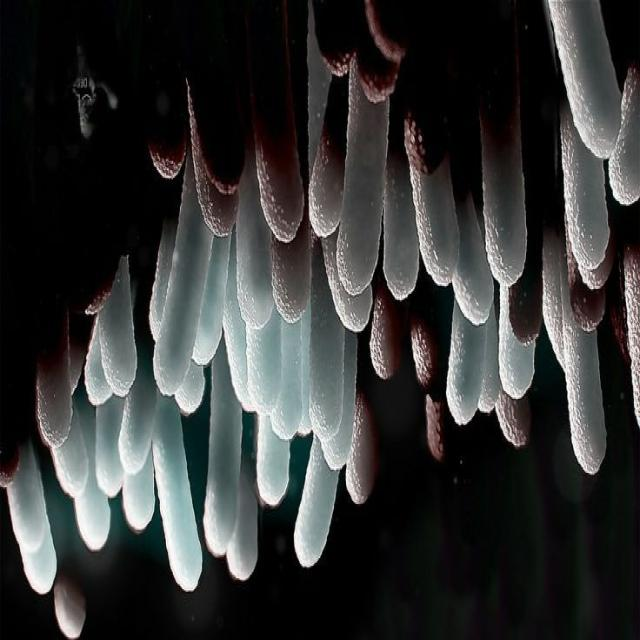Amoeba: (3, 3, 639, 637)
